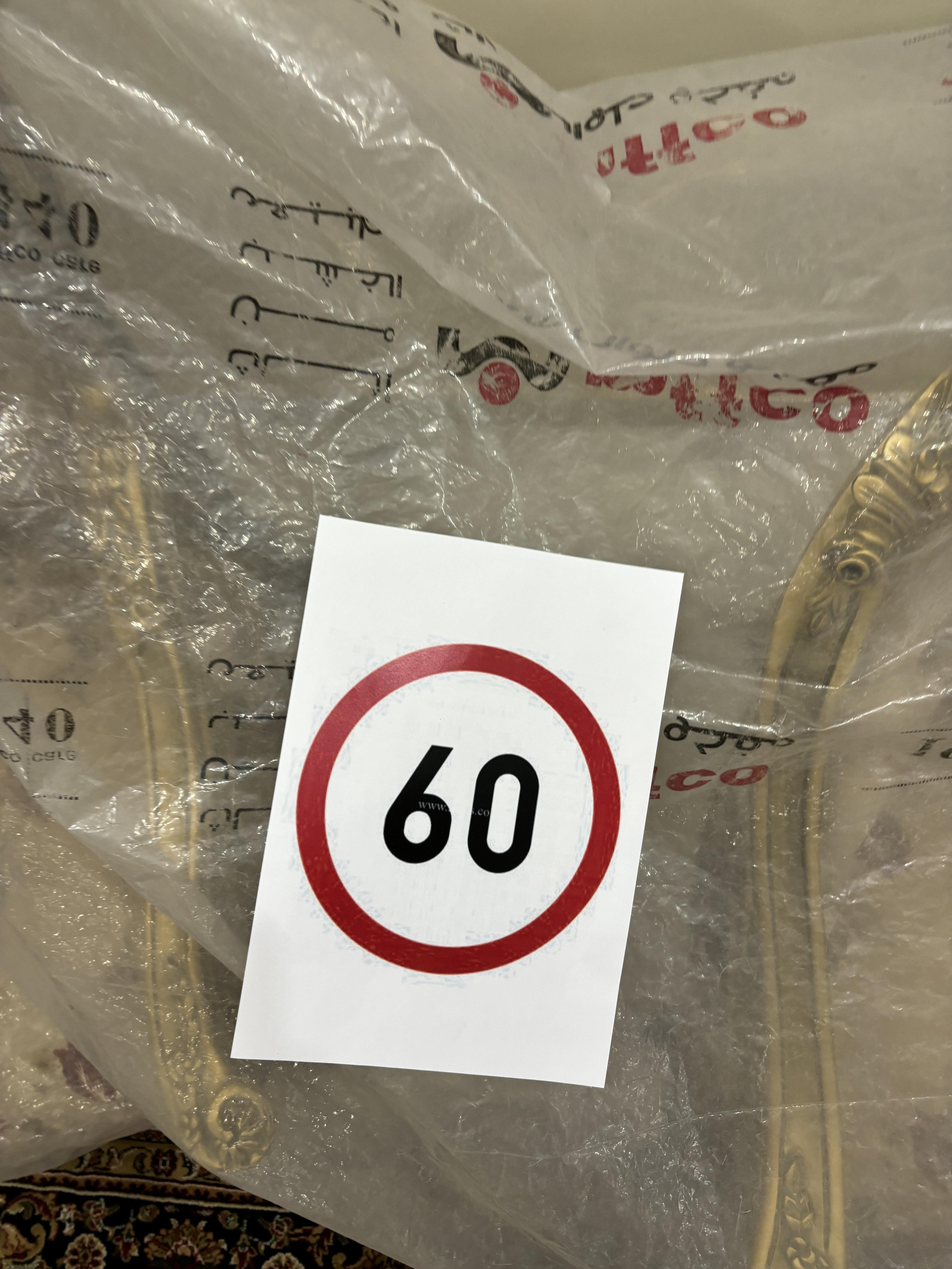60-Speed: (289, 642, 632, 975)
